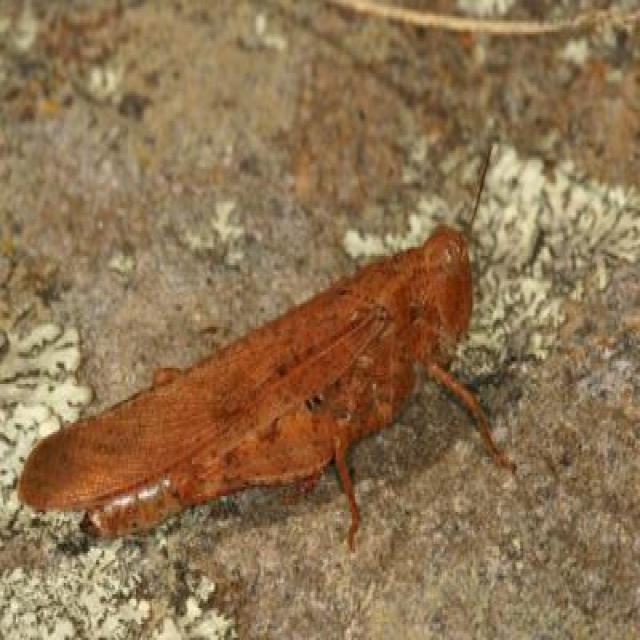antennae: (466, 141, 494, 236)
body: (89, 230, 470, 539)
insect: (16, 137, 528, 556)
legs: (431, 366, 521, 476), (341, 409, 370, 549)
mouthpart: (444, 310, 470, 349)
wings: (19, 281, 384, 508)
